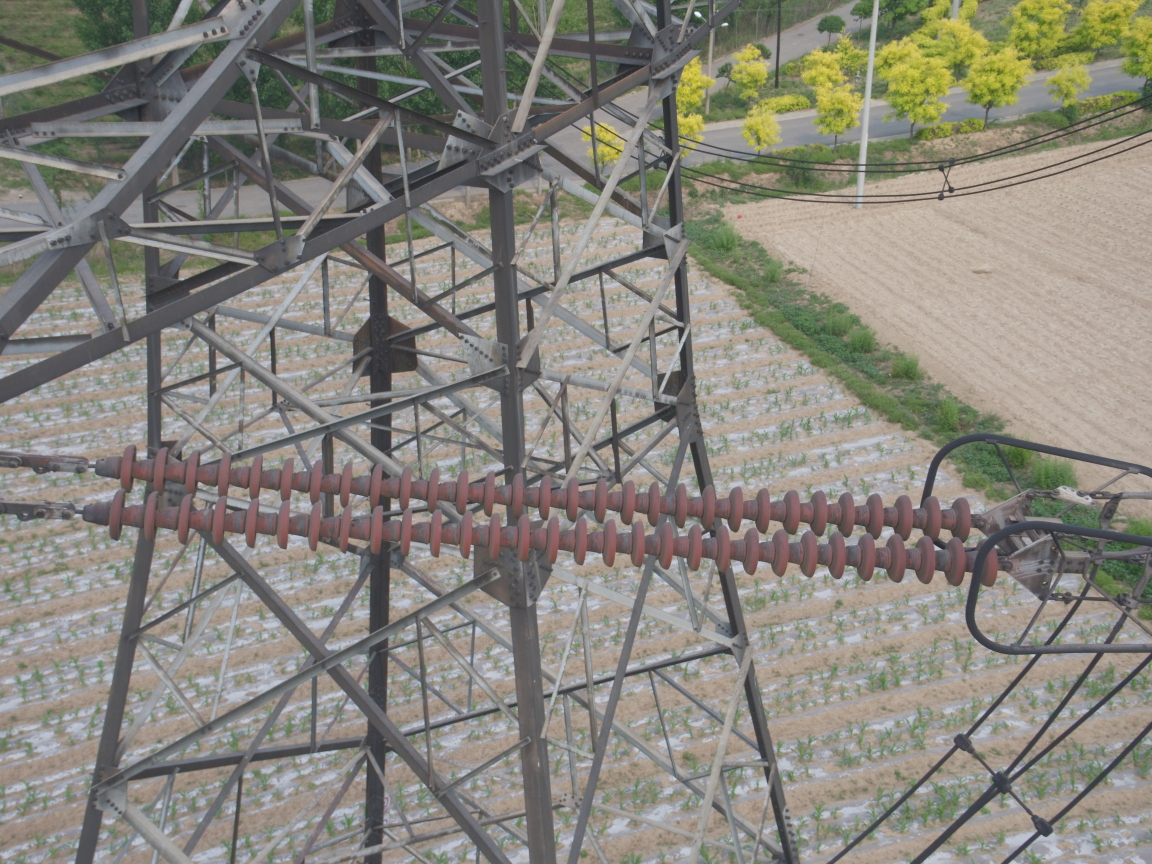insulator: (32, 440, 1029, 590)
